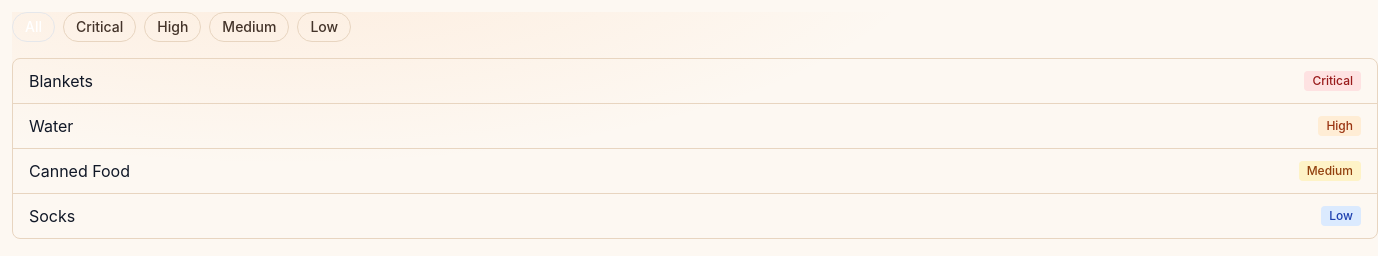
Test case: NeedsFilter › filters list to only Critical items when "Critical" is selected
The image size is (1378, 256).
Click the button "Critical" at (100, 27), box top-left (63, 12), bottom-right (136, 42)
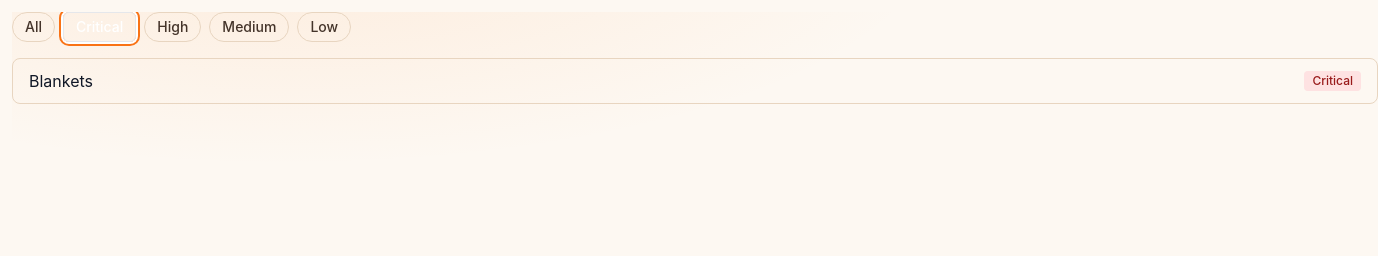
Expected: the text "water" is gone
Expected: the text "canned food" is gone
Expected: the text "socks" is gone
